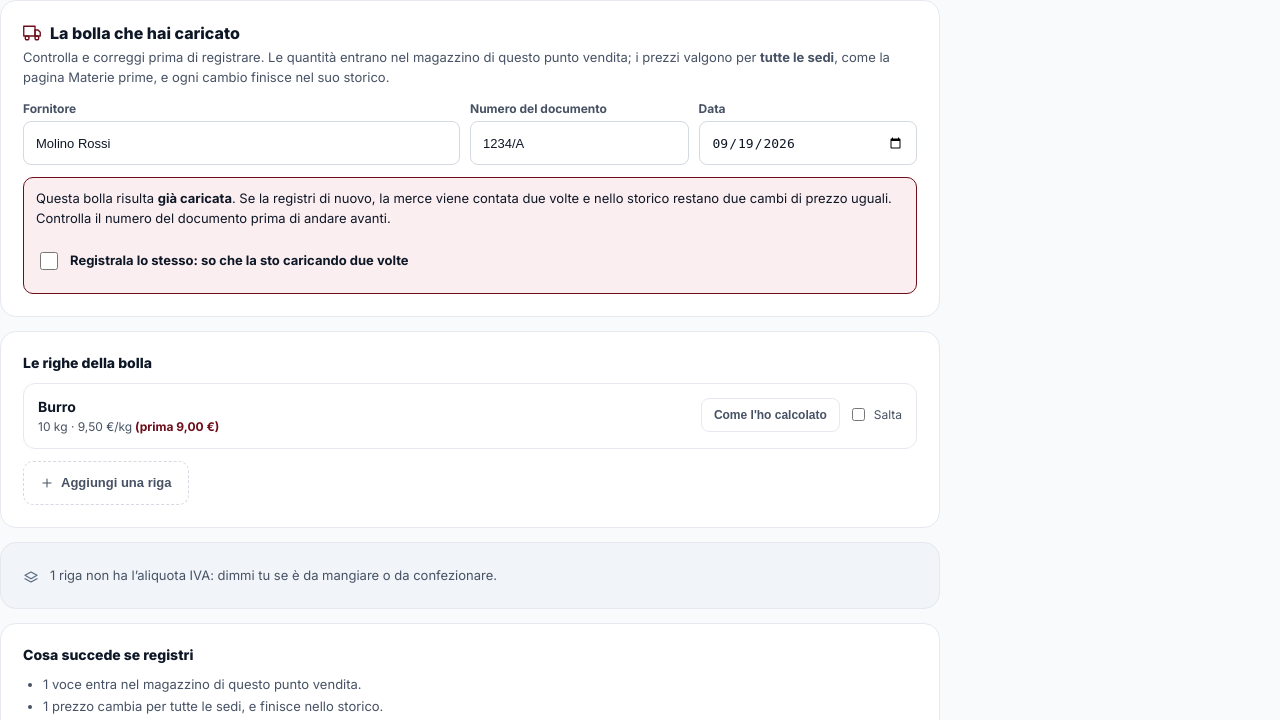
Test: Una bolla già caricata non si registra per sbaglio › cambiando il numero del documento la bolla non è più quella di prima
The width and height of the screenshot is (1280, 720).
Replace the text in the field with id "bolla-numero" with "1235/A": (579, 143) [470,121,688,165]
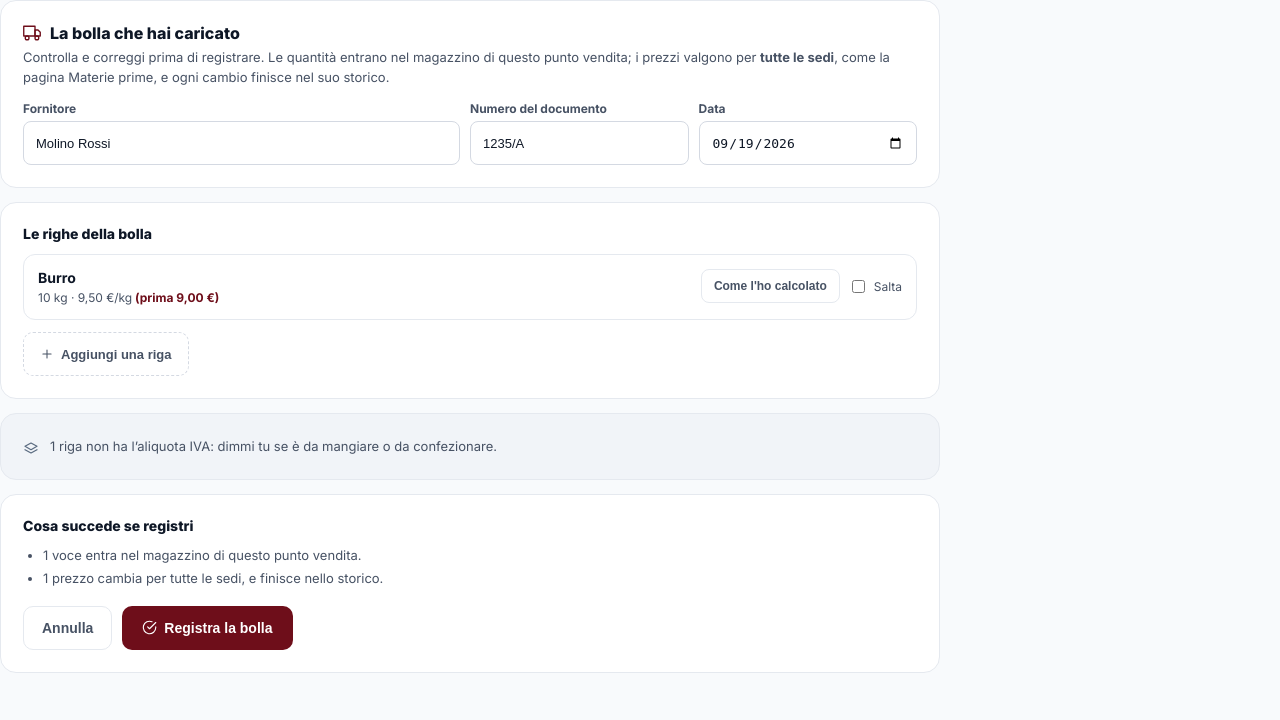
Check: the button "Registra la bolla" is enabled, box [122,606,292,650]
